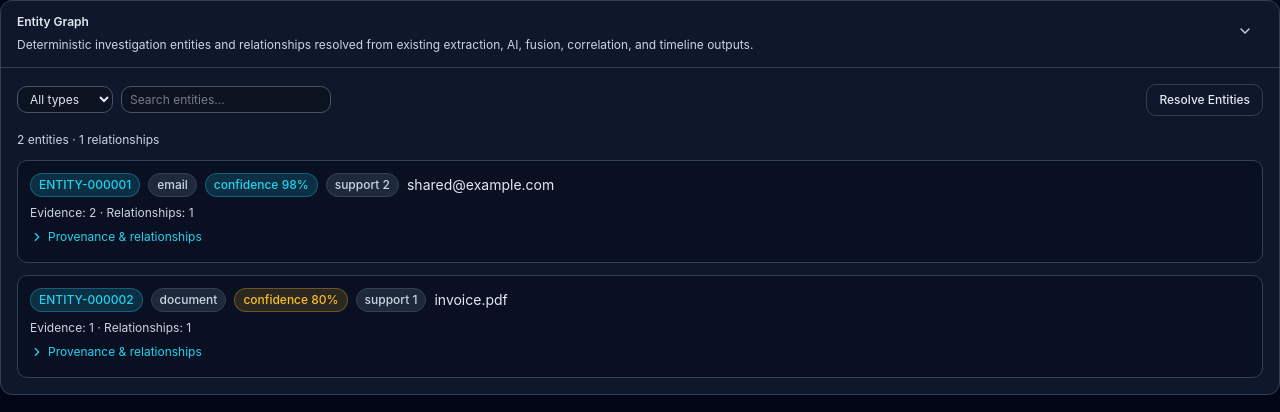
Phase 7C EntityGraphPanel › filters by entity type
Expected: the text "ENTITY-000001" is shown, top-left (30, 172), bottom-right (140, 196)
Step 1. Select "email" in the dropdown named "Filter entity type" → {"x": 65, "y": 100}, box top-left (17, 86), bottom-right (113, 113)
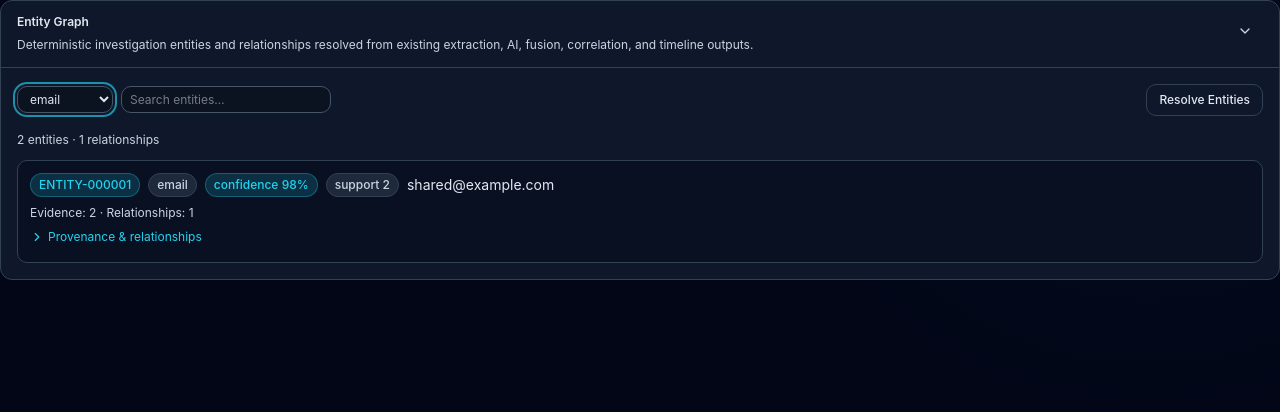
Expected: the text "ENTITY-000001" is shown, top-left (30, 172), bottom-right (140, 196)
Now the text "ENTITY-000002" is gone
